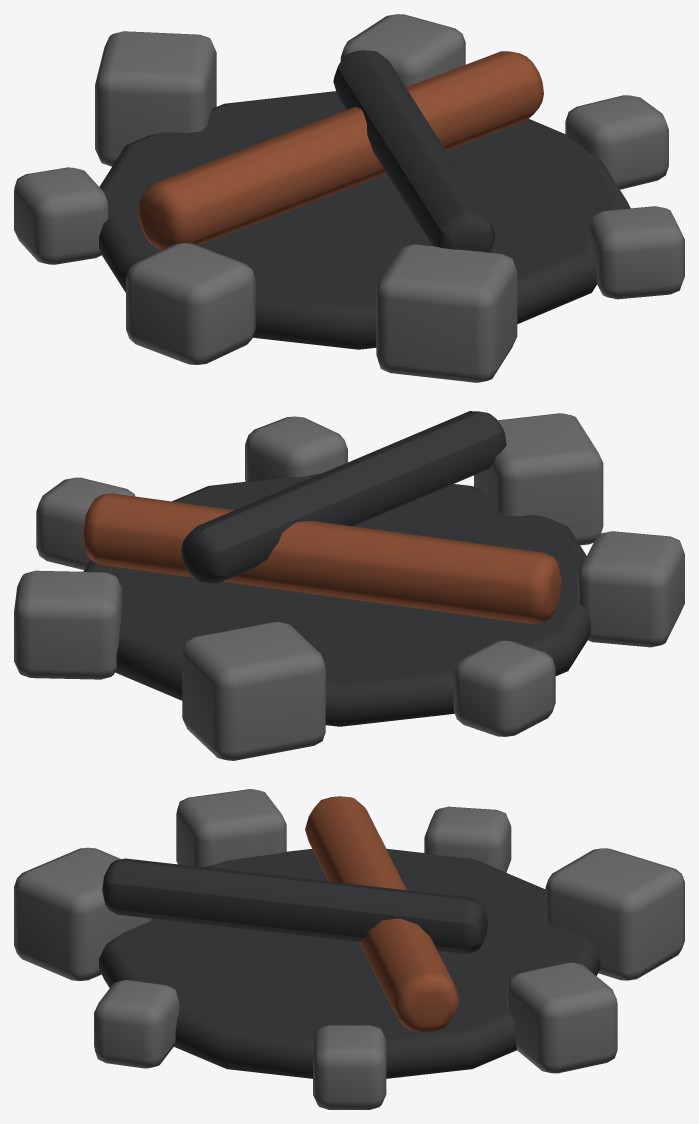
The model's file is camp-firepit.glb.
3 renders of one model, top to bottom at view 1: azimuth 30°, elevation 25°; view 2: azimuth 150°, elevation 25°; view 3: azimuth 270°, elevation 25°, orthographic. The views are drawn at different scales.
Parts seen in each view (by area): view 1: camp-firepit; view 2: camp-firepit; view 3: camp-firepit.
Boxes of the visible parts, left/top/right/bottom form: camp-firepit: left=14, top=14, right=684, bottom=382; camp-firepit: left=14, top=411, right=684, bottom=760; camp-firepit: left=14, top=789, right=684, bottom=1109.
Bounding box in the file's own units: 1.12 × 0.233 × 1.23.
